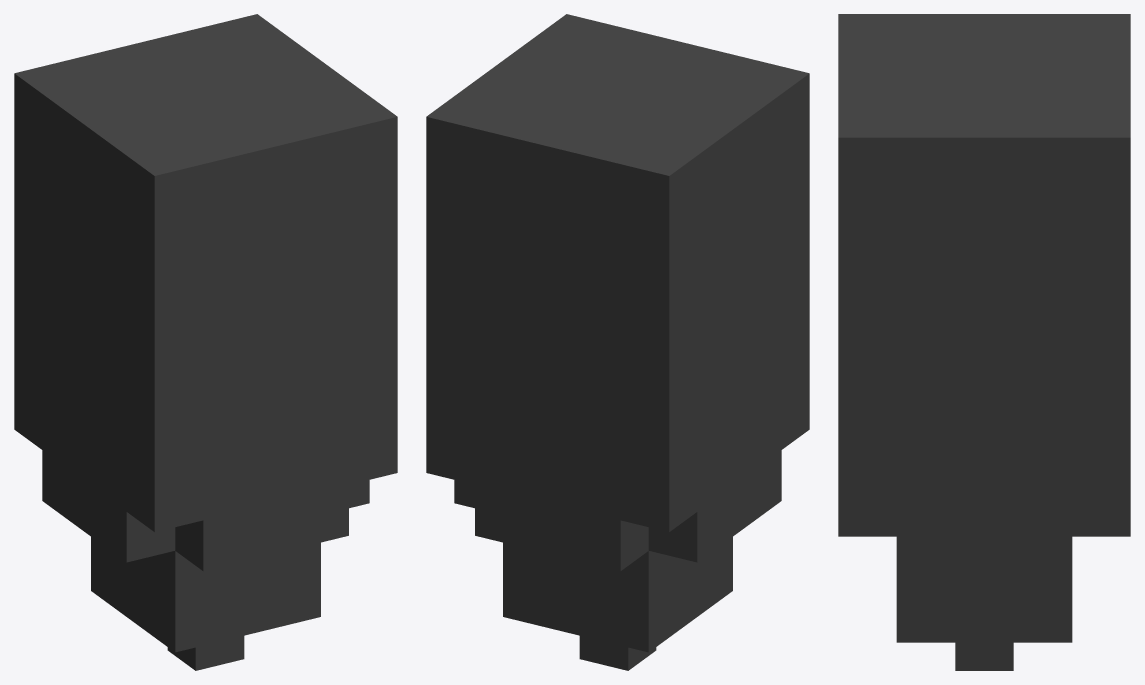
The model's file is estalagtiteEmite.obj.
The picture shows the model from 3 angles, left to right: view 1: azimuth 30°, elevation 25°; view 2: azimuth 150°, elevation 25°; view 3: azimuth 270°, elevation 25°; orthographic projection. The views are drawn at different scales.
Size of the model in its own units: 0.5 by 1.1 by 0.5.
Materials: 1 (1 with a texture image).
